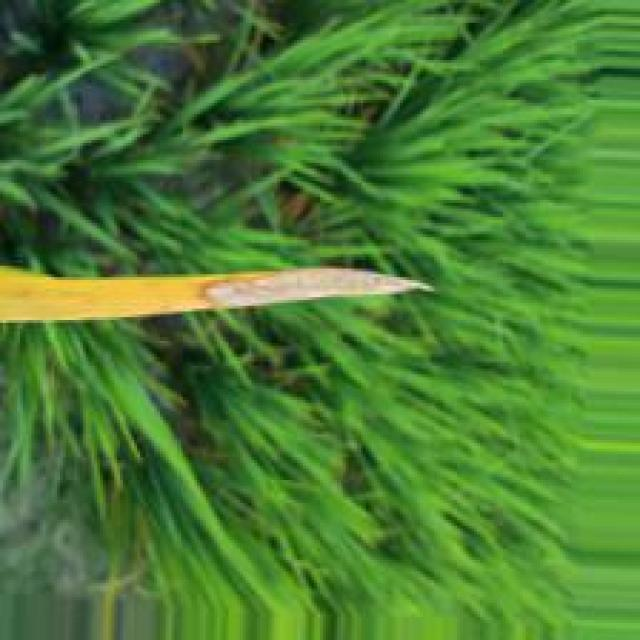Leaf_Scald: (192, 269, 432, 306)
